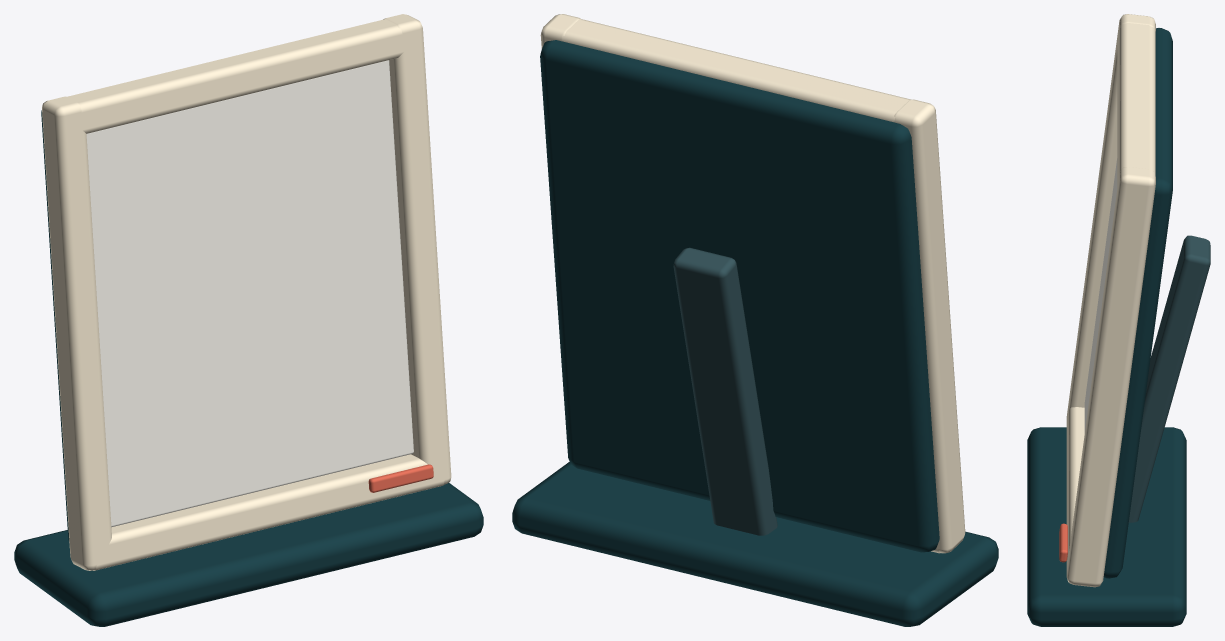
Rendered from gallery-frame.glb.
3 views of the same model, side by side, from view 1: azimuth 30°, elevation 25°; view 2: azimuth 150°, elevation 25°; view 3: azimuth 270°, elevation 25° (orthographic). The views are drawn at different scales.
Visible parts, largest first — view 1: artwork-surface, mount-board, gallery-plinth, frame-left, frame-right, frame-top, frame-bottom, corner-inlay, frame-backing; view 2: frame-backing, gallery-plinth, rear-stand, frame-left, frame-top, frame-right; view 3: gallery-plinth, frame-right, frame-backing, rear-stand, frame-top, frame-left, frame-bottom, artwork-surface, corner-inlay.
Part boxes in pixels (x1,y1,x2,y2): artwork-surface: (108, 90, 390, 497); mount-board: (86, 60, 413, 527); gallery-plinth: (14, 483, 483, 626); frame-left: (42, 96, 111, 570); frame-right: (383, 14, 451, 484); frame-top: (67, 19, 416, 133); frame-bottom: (93, 454, 444, 570); corner-inlay: (368, 464, 433, 492); frame-backing: (41, 110, 69, 541); frame-backing: (540, 40, 939, 552); gallery-plinth: (512, 461, 998, 626); rear-stand: (673, 247, 777, 535); frame-left: (894, 99, 965, 553); frame-top: (549, 19, 910, 127); frame-right: (540, 14, 581, 49); gallery-plinth: (1027, 427, 1186, 626); frame-right: (1066, 167, 1155, 587); frame-backing: (1103, 28, 1172, 578); rear-stand: (1128, 235, 1210, 522); frame-top: (1117, 23, 1155, 192); frame-left: (1066, 14, 1155, 422); frame-bottom: (1066, 405, 1084, 568); artwork-surface: (1086, 158, 1117, 422); corner-inlay: (1059, 523, 1067, 562).
Bounding box in the file's own units: 1.38 × 1.62 × 0.5985.
